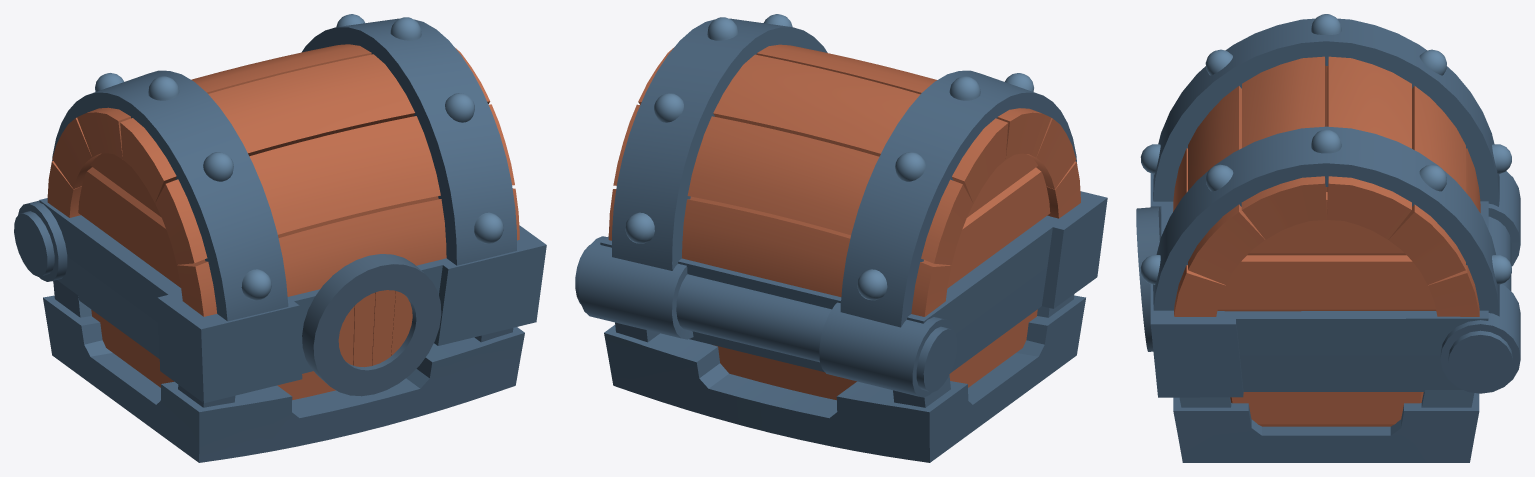
The model's file is Chest A Multi.fbx.
3 views of the same model, side by side, from view 1: azimuth 30°, elevation 25°; view 2: azimuth 150°, elevation 25°; view 3: azimuth 270°, elevation 25° (orthographic). The views are drawn at different scales.
Visible parts, largest first — view 1: Chest A Cover, Chest A, Chest A Icon; view 2: Chest A Cover, Chest A; view 3: Chest A Cover, Chest A, Chest A Icon.
Boxes of the visible parts, bbox=[...] form: Chest A Cover: bbox=[14, 14, 546, 366]; Chest A: bbox=[43, 256, 541, 462]; Chest A Icon: bbox=[302, 254, 441, 396]; Chest A Cover: bbox=[575, 14, 1107, 397]; Chest A: bbox=[604, 238, 1102, 462]; Chest A Cover: bbox=[1140, 14, 1520, 393]; Chest A: bbox=[1154, 355, 1479, 462]; Chest A Icon: bbox=[1136, 206, 1161, 351].
Bounding box in the file's own units: 2.92 × 2.61 × 2.81.
